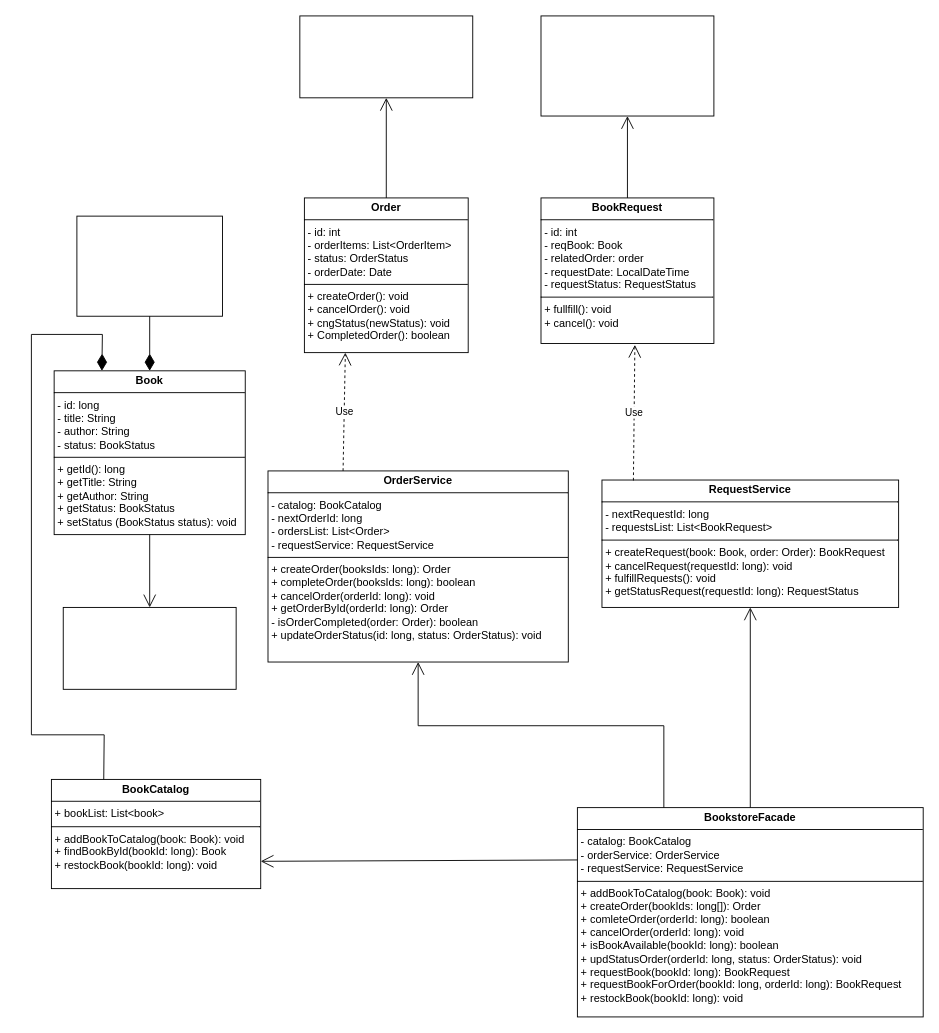
Image size: 939x1033. Some labels were removed from this diagram. Here are the shapes that lost their labels. From the top down, the centre of each, then its label:
the point at 386,56: <<Enumeration>> OrderStatus PENDING FULFILLED CANCELLED
the point at 627,65: <<Enumeration>> RequestStatus NEW IN_PROCESS COMPLETED CANCELLED
the point at 149,265: OrderItem - id: int - book: Book - quantity: int - price: Decimal
the point at 149,648: <<Enumeration>> BookStatus AVAILABLE OUT_OF_STOCK
